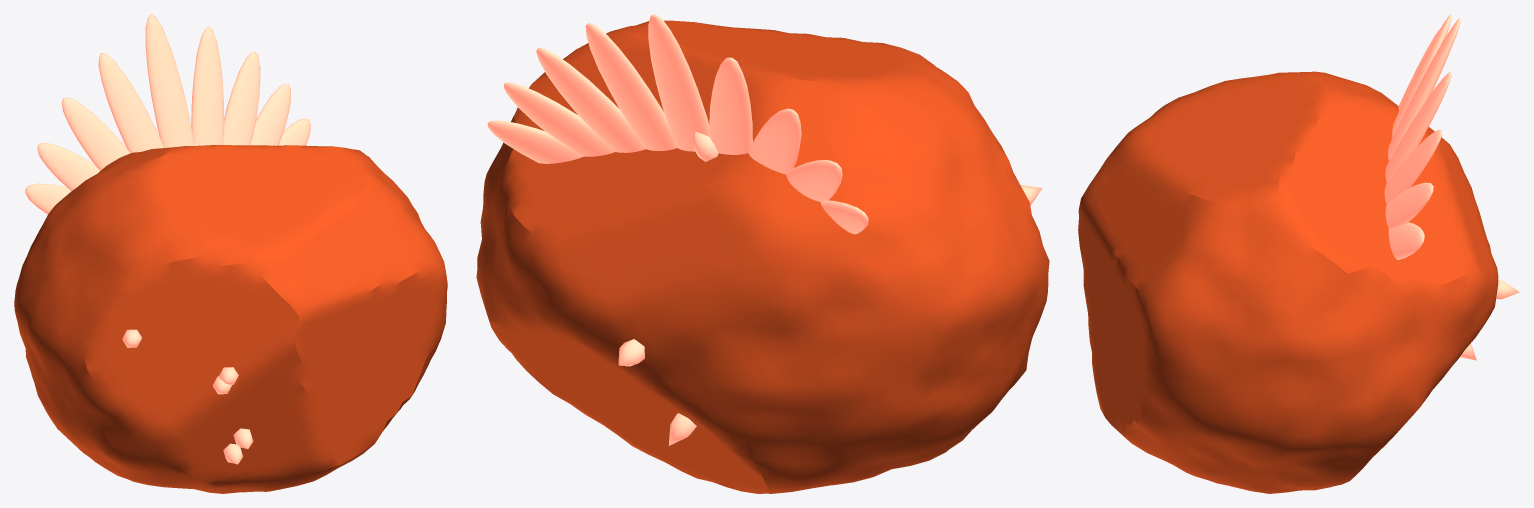
File: RockPhoenix.fbx
3 renders of one model, left to right at view 1: azimuth 30°, elevation 25°; view 2: azimuth 150°, elevation 25°; view 3: azimuth 270°, elevation 25°, orthographic. The views are drawn at different scales.
Visible parts, largest first — view 1: RockPhoenix_Body, RockPhoenix_Glow; view 2: RockPhoenix_Body, RockPhoenix_Glow; view 3: RockPhoenix_Body, RockPhoenix_Glow.
Boxes of the visible parts, box(x1,y1,x2,y2) form: RockPhoenix_Body: box(14, 145, 447, 493); RockPhoenix_Glow: box(25, 14, 310, 464); RockPhoenix_Body: box(476, 20, 1049, 493); RockPhoenix_Glow: box(487, 14, 1042, 445); RockPhoenix_Body: box(1078, 71, 1498, 493); RockPhoenix_Glow: box(1087, 14, 1519, 360).
Size of the model in its own units: 212 by 211 by 189.
